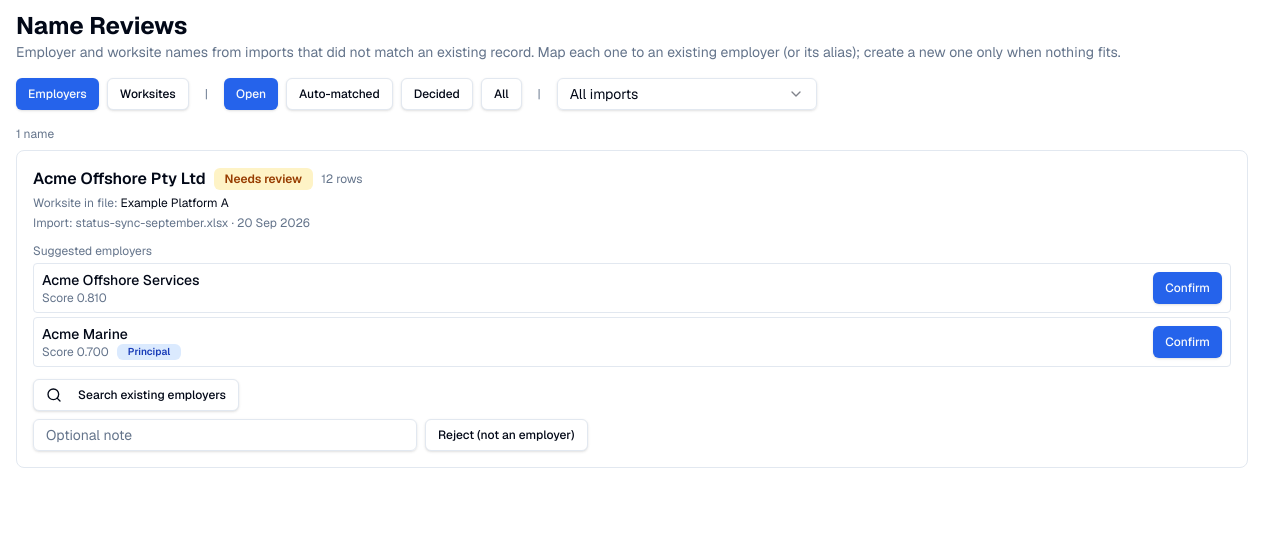
it: Name Reviews page › Confirm on a proposal posts confirm with the proposal id
Click the button "Confirm" in the row of "Principal" at (1188, 342), box [1153,326,1222,358]
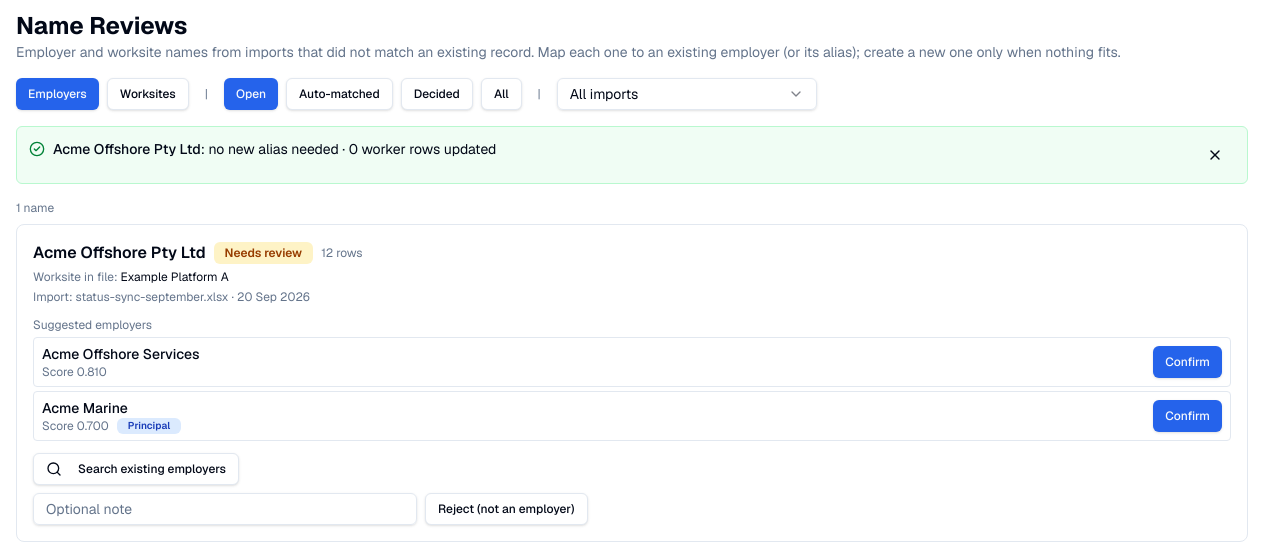
Expected: the text "no new alias needed · 0 worker rows updated" is shown, [208,140,496,158]
